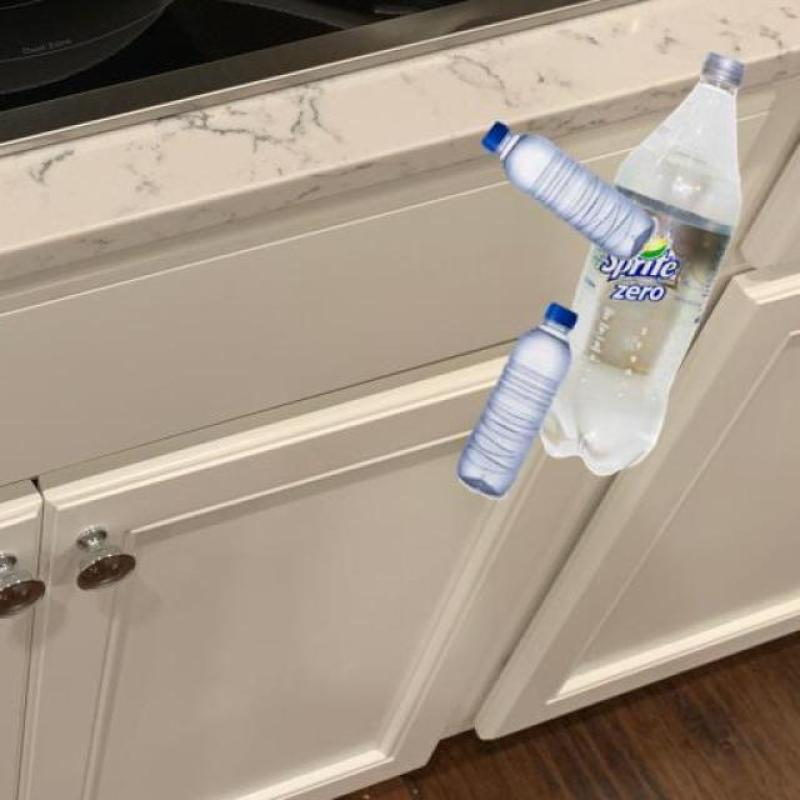botella: (542, 54, 746, 478), (481, 118, 655, 262), (455, 304, 577, 497)
